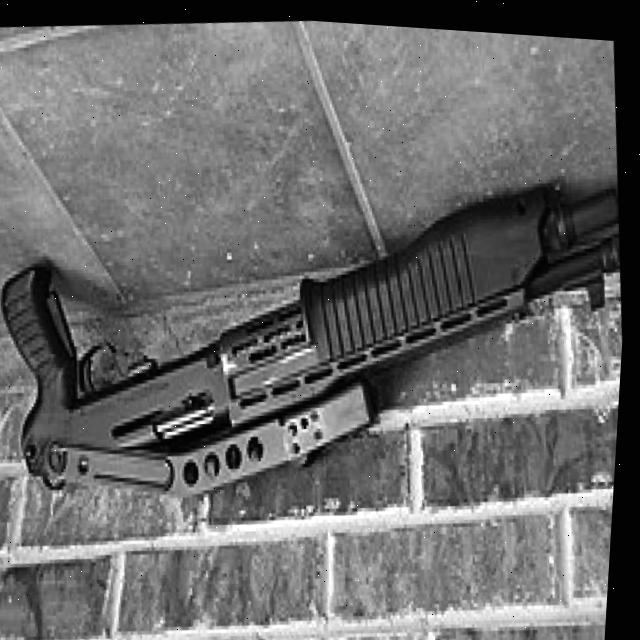firearm: (0, 143, 633, 536)
